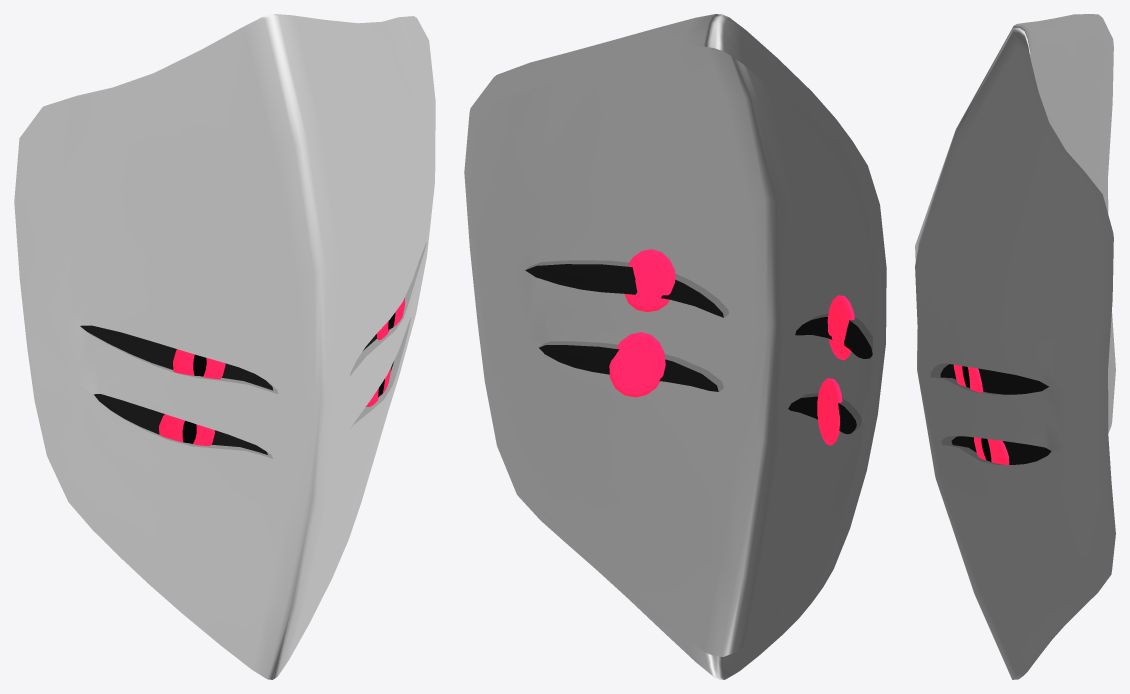
Rendered from mememe_hana_mask.glb.
The picture shows the model from 3 angles, left to right: view 1: azimuth 30°, elevation 25°; view 2: azimuth 150°, elevation 25°; view 3: azimuth 270°, elevation 25°; orthographic projection. The views are drawn at different scales.
Parts seen in each view (by area): view 1: mask; view 2: mask; view 3: mask.
Boxes of the visible parts, <box> form: mask: <box>14,14,435,679</box>; mask: <box>464,14,886,679</box>; mask: <box>915,14,1115,679</box>.
Size of the model in its own units: 0.1636 by 0.2481 by 0.0694.
Materials: 1 (1 with a texture image).
